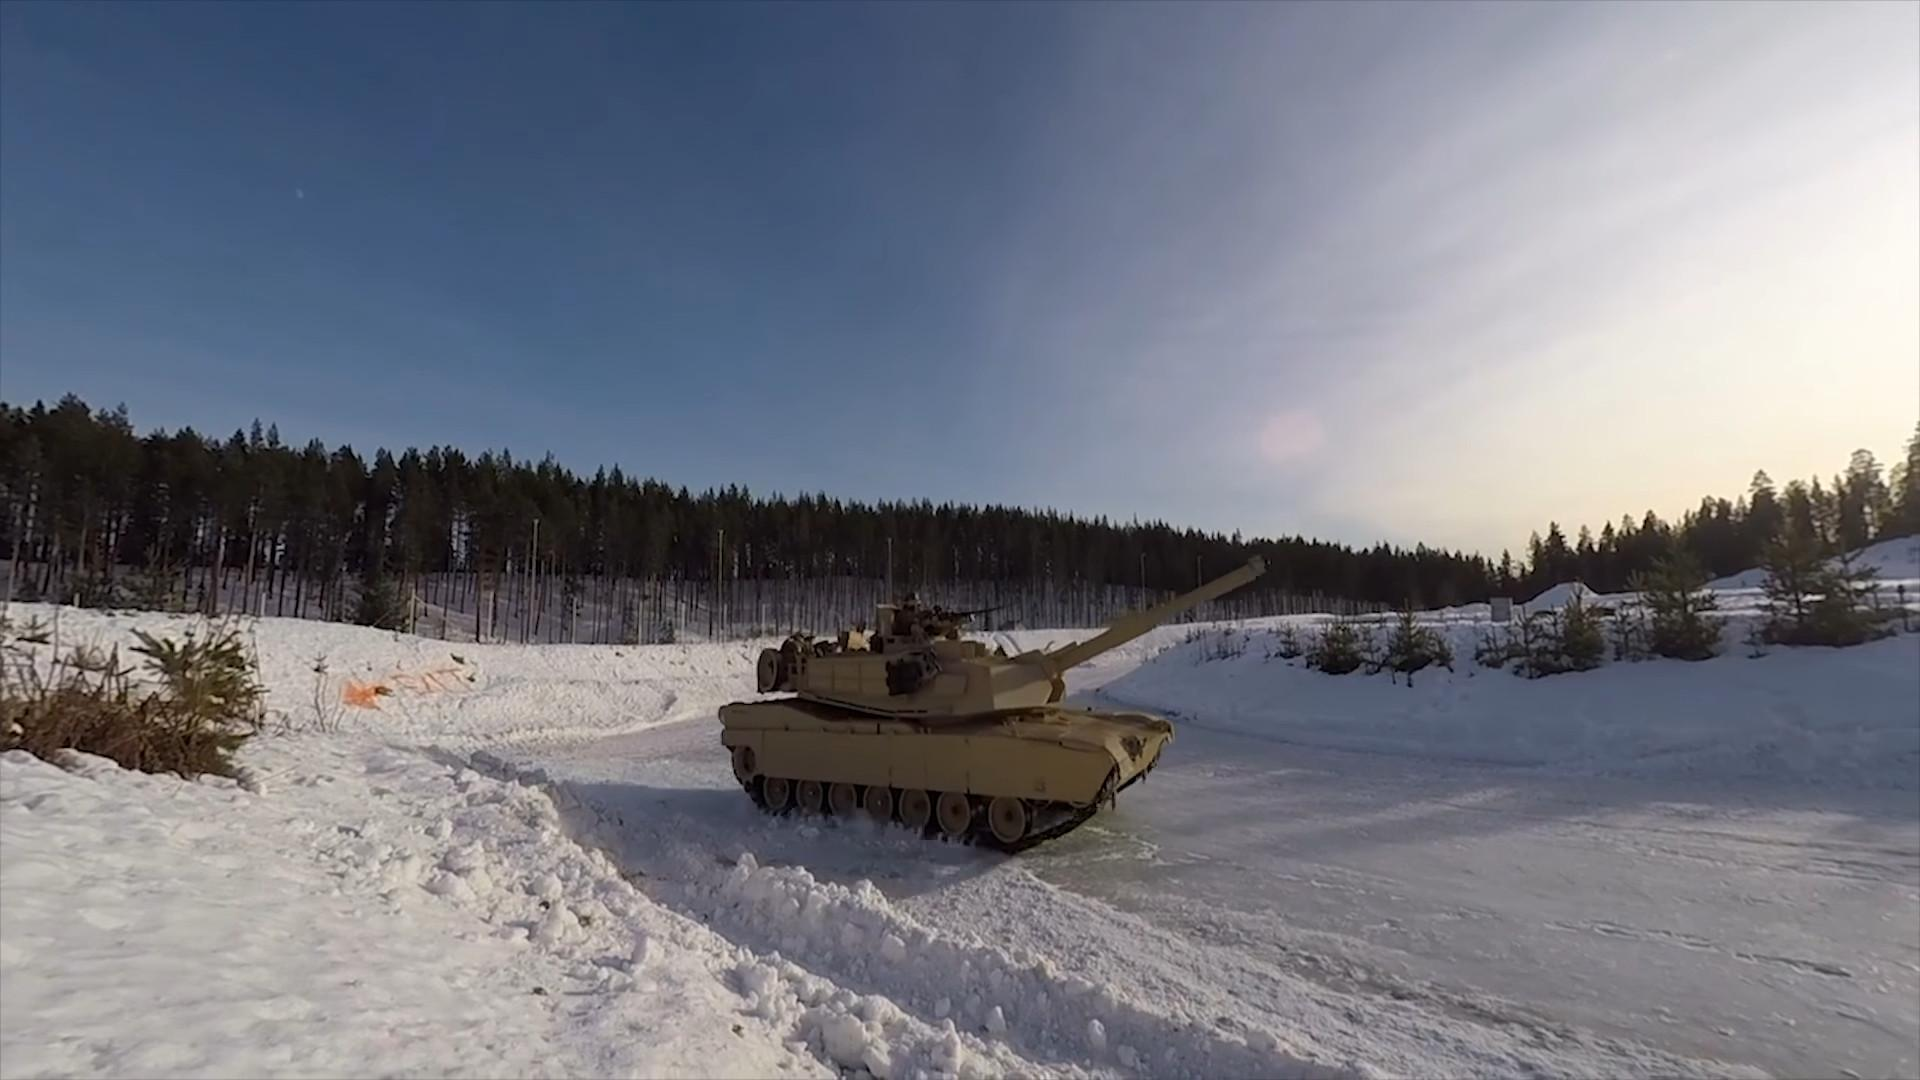tank: (716, 551, 1265, 848)
